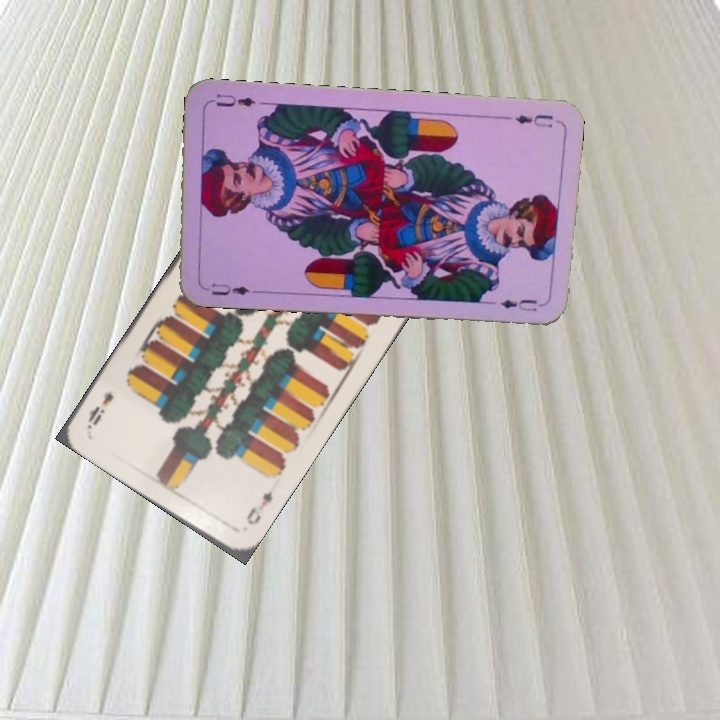E9: (242, 486, 276, 528)
EU: (198, 279, 252, 299), (511, 111, 556, 131)
